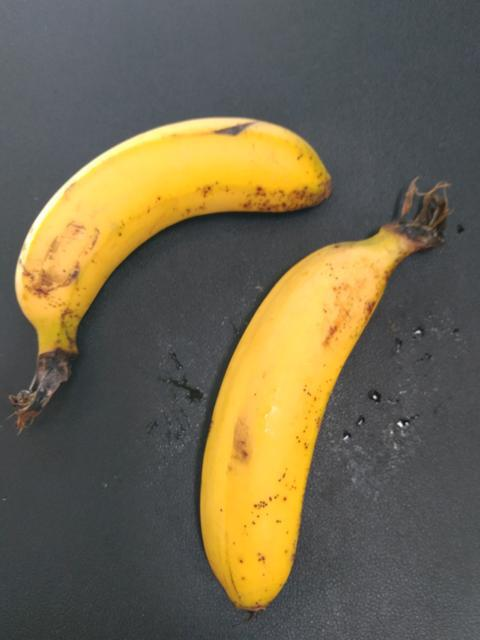ripe: (165, 239, 404, 617), (13, 88, 351, 348)
